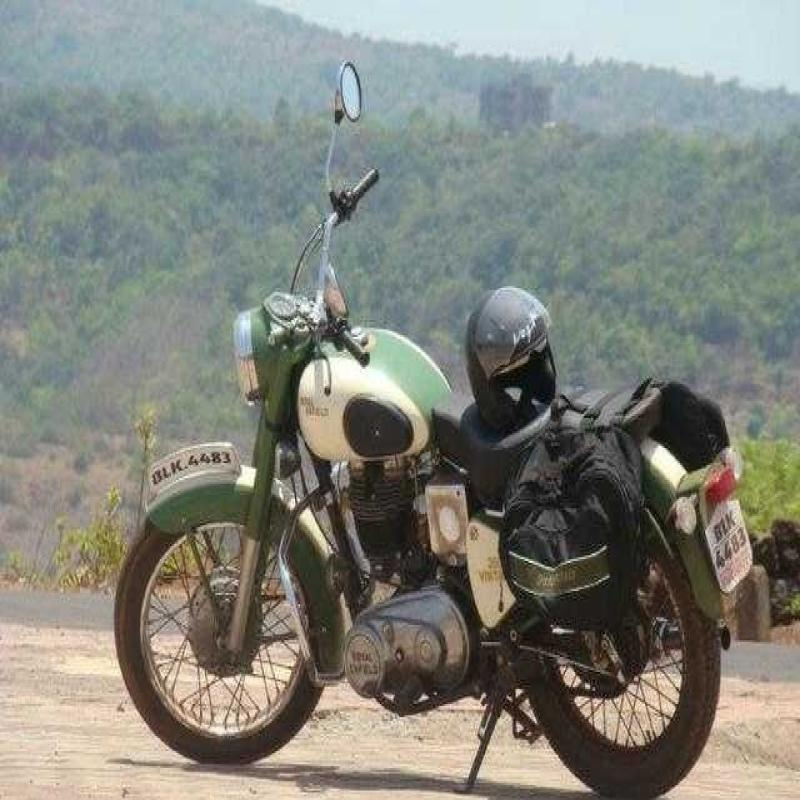bike: (126, 38, 800, 798)
